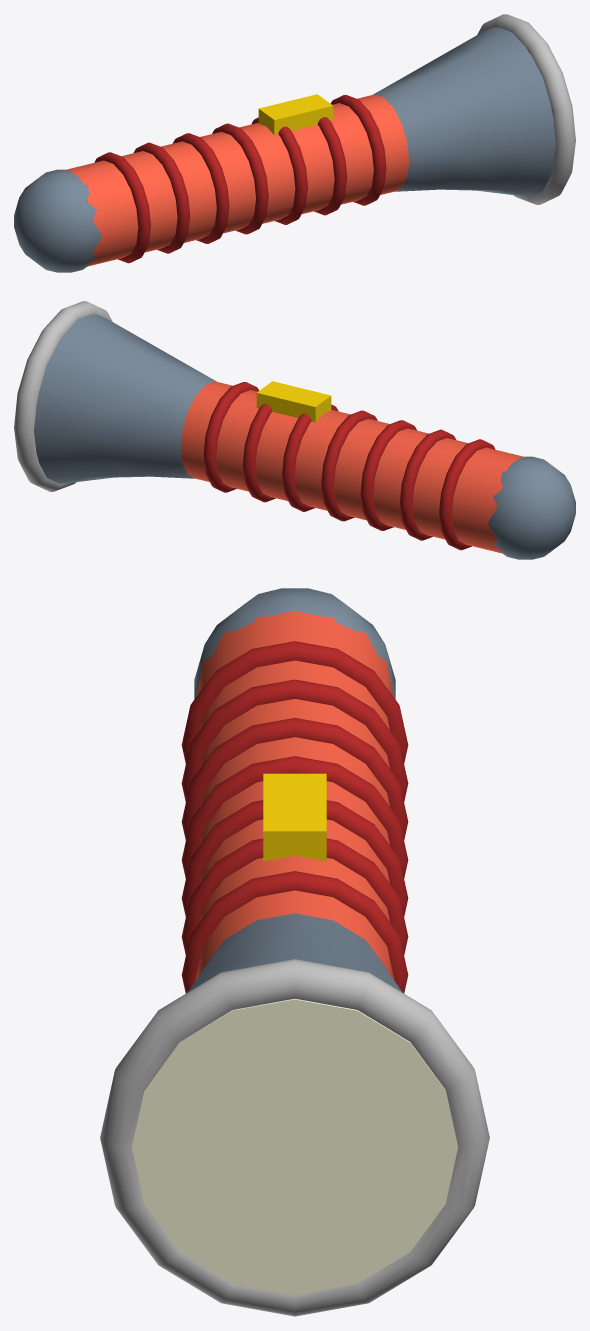
Rendered from flashlight.glb.
3 renders of one model, top to bottom at view 1: azimuth 30°, elevation 25°; view 2: azimuth 150°, elevation 25°; view 3: azimuth 270°, elevation 25°, orthographic. The views are drawn at different scales.
Bounding box in the file's own units: 0.2602 × 0.086 × 0.086.
